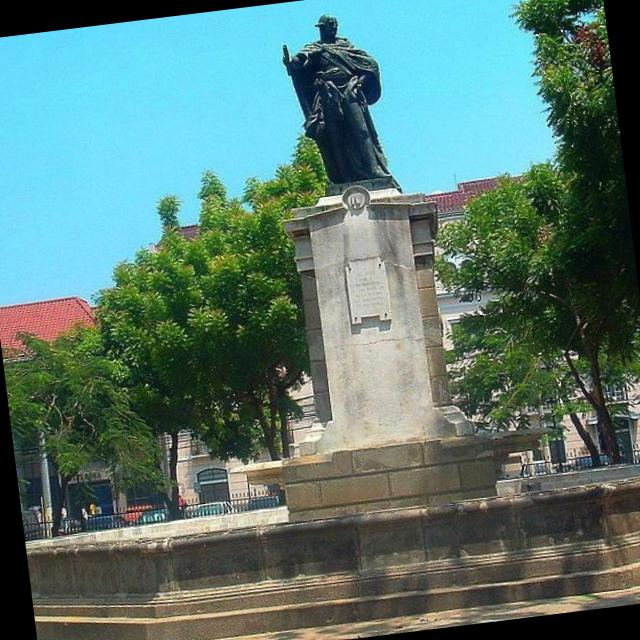King Charles IV Monument: (223, 0, 522, 524)
